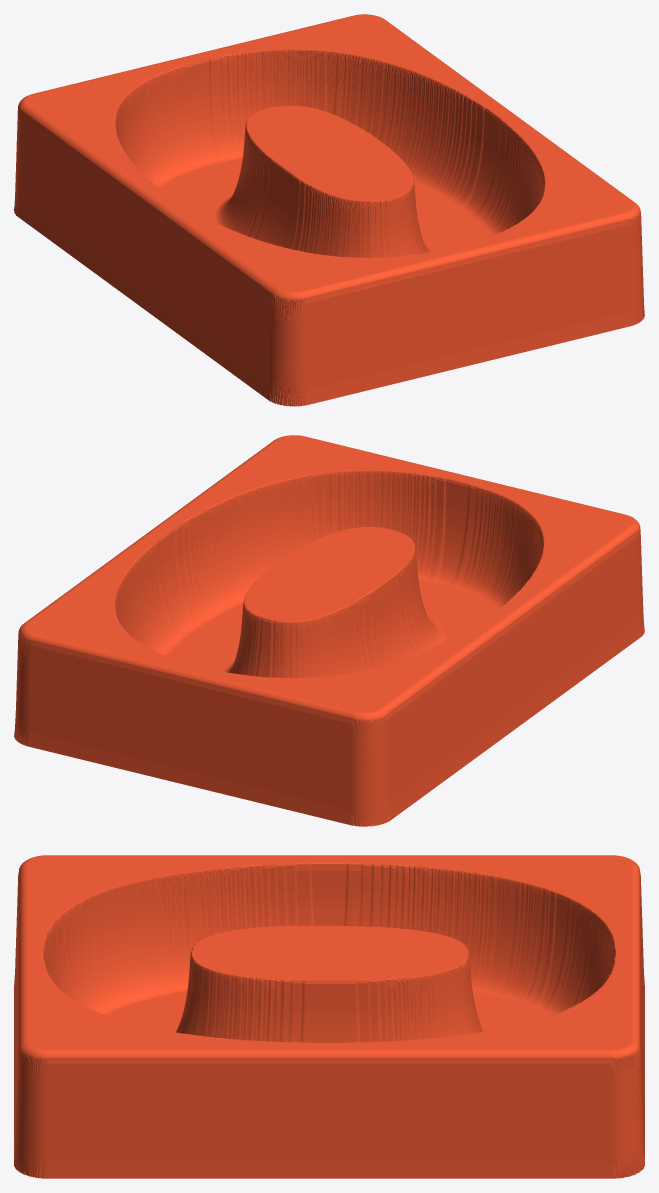
The model's file is mold.glb.
The picture shows the model from 3 angles, top to bottom: view 1: azimuth 30°, elevation 25°; view 2: azimuth 150°, elevation 25°; view 3: azimuth 270°, elevation 25°; orthographic projection. The views are drawn at different scales.
Visible parts, largest first — view 1: geometry_0; view 2: geometry_0; view 3: geometry_0.
Boxes of the visible parts, left/top/right/bottom form: geometry_0: left=14, top=14, right=644, bottom=406; geometry_0: left=14, top=435, right=644, bottom=826; geometry_0: left=14, top=855, right=644, bottom=1178.
Size of the model in its own units: 0.1298 by 0.0365 by 0.1689.
